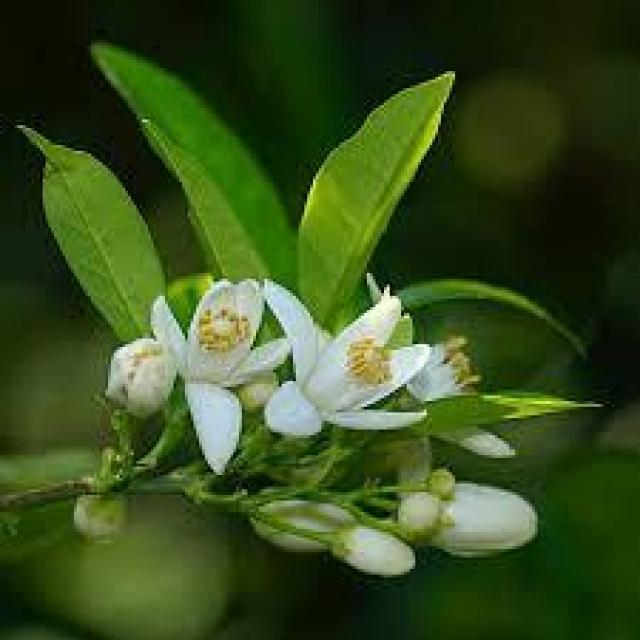Bunga: (344, 276, 524, 461), (245, 282, 432, 436), (148, 278, 290, 476), (412, 478, 538, 555), (244, 498, 358, 560), (108, 338, 179, 418), (330, 528, 418, 578), (71, 492, 128, 541), (396, 492, 446, 535)
